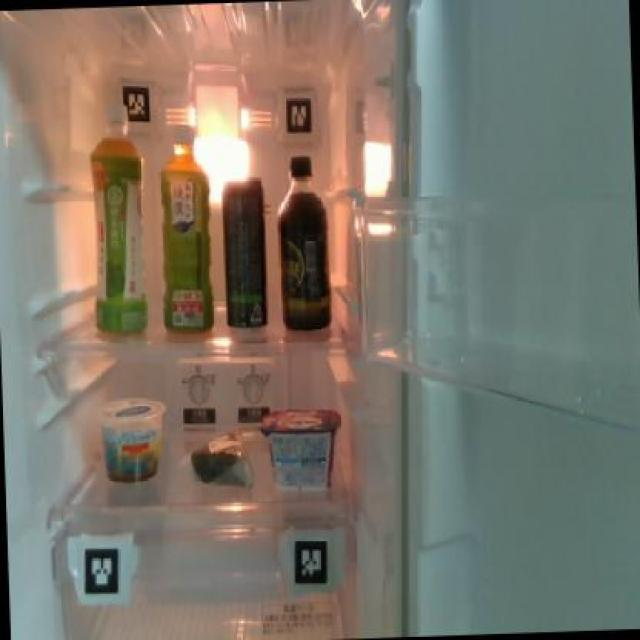coffee: (273, 151, 333, 334)
energy_drink: (218, 173, 270, 333)
pudding: (98, 394, 168, 486)
rice_ball: (185, 426, 258, 496)
tea_a: (153, 120, 216, 334)
tea_i: (84, 118, 152, 336)
yogurt: (258, 404, 344, 500)
